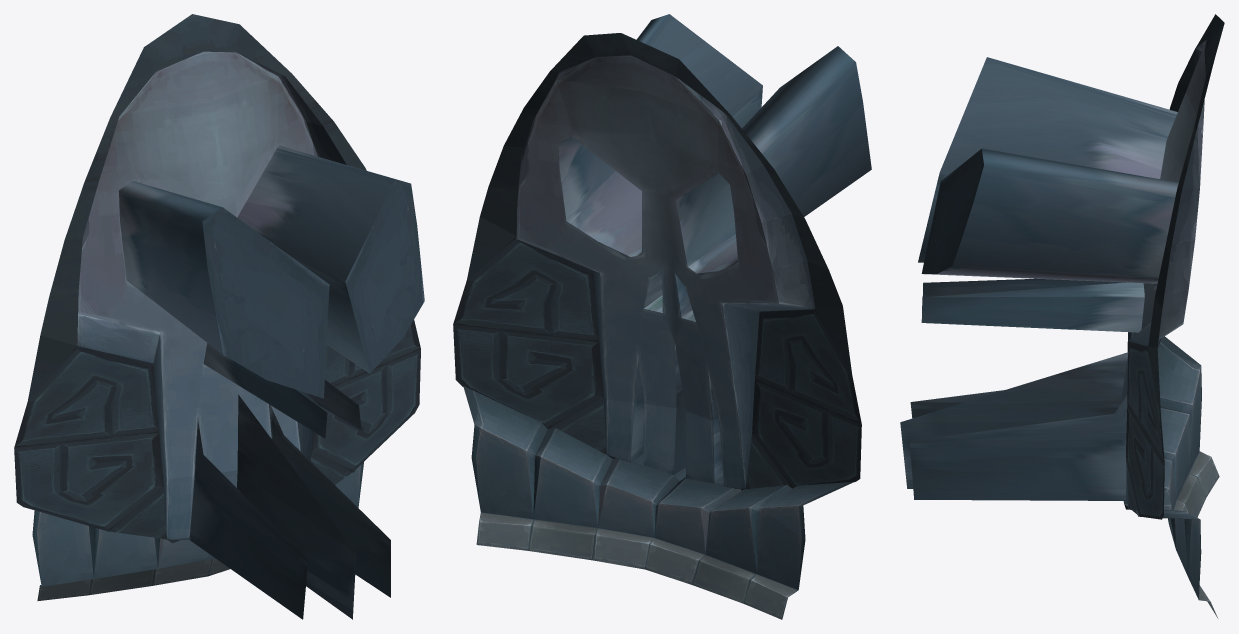
Rendered from A_CR_GEN_WallPanel_07.fbx.
3 views of the same model, side by side, from view 1: azimuth 30°, elevation 25°; view 2: azimuth 150°, elevation 25°; view 3: azimuth 270°, elevation 25° (orthographic). The views are drawn at different scales.
Visible parts, largest first — view 1: A_CR_GEN_WallPanel_07; view 2: A_CR_GEN_WallPanel_07; view 3: A_CR_GEN_WallPanel_07.
Part boxes in pixels (<box>): A_CR_GEN_WallPanel_07: <box>14,14,424,619</box>; A_CR_GEN_WallPanel_07: <box>453,14,871,619</box>; A_CR_GEN_WallPanel_07: <box>900,14,1224,617</box>.
Size of the model in its own units: 522 by 671 by 373.
1 material, 1 textured.
